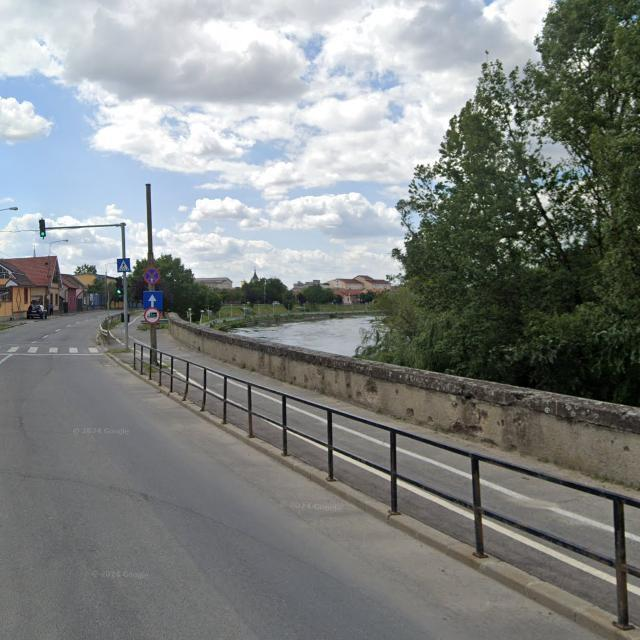forb_waiting: (144, 267, 161, 285)
info_crosswalk: (117, 259, 130, 273)
